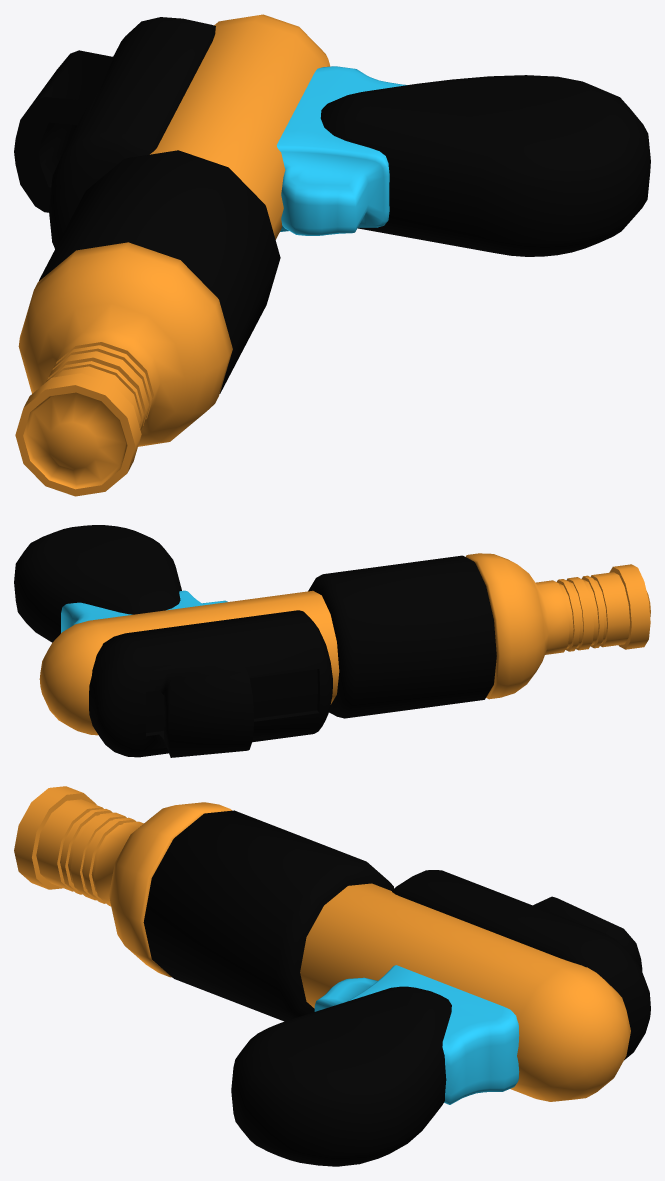
The model's file is ToyObject_040.fbx.
3 views of the same model, one above another, from view 1: azimuth 30°, elevation 25°; view 2: azimuth 150°, elevation 25°; view 3: azimuth 270°, elevation 25° (orthographic). The views are drawn at different scales.
Visible parts, largest first — view 1: Object.074; view 2: Object.074; view 3: Object.074.
Part boxes in pixels (bbox=[...]): Object.074: bbox=[14, 14, 650, 496]; Object.074: bbox=[14, 525, 650, 757]; Object.074: bbox=[14, 786, 650, 1166].
Bounding box in the file's own units: 0.1989 × 0.0479 × 0.1706.
